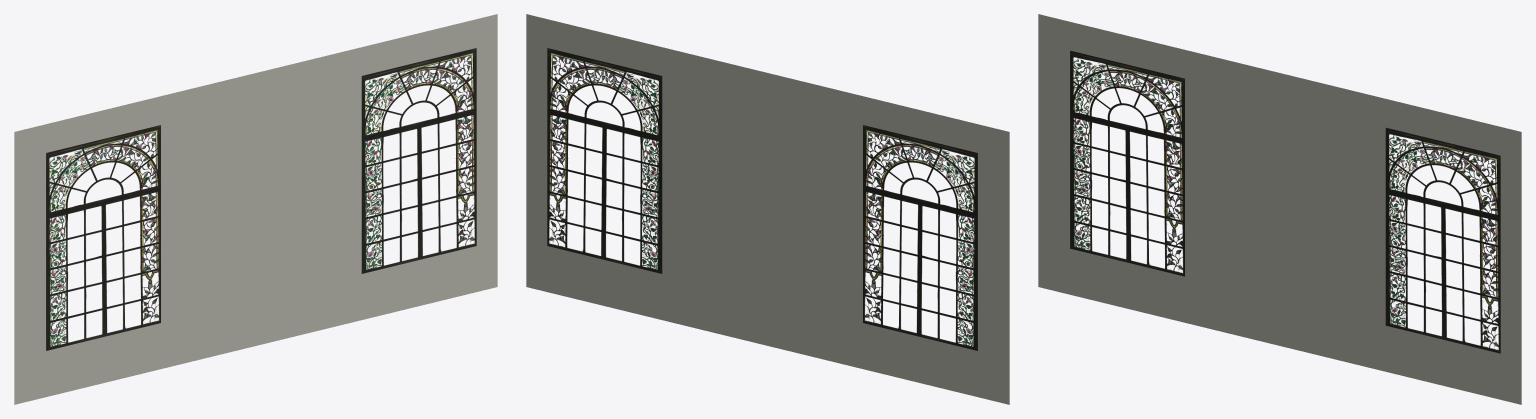
The model's file is B_axis_collider_5.glb.
3 views of the same model, side by side, from view 1: azimuth 30°, elevation 25°; view 2: azimuth 150°, elevation 25°; view 3: azimuth 330°, elevation 25° (orthographic).
Visible parts, largest first — view 1: B_axis_wall_collider.5; view 2: B_axis_wall_collider.5; view 3: B_axis_wall_collider.5.
Part boxes in pixels (x1,y1,x2,y2): B_axis_wall_collider.5: (14, 14, 497, 404); B_axis_wall_collider.5: (526, 14, 1009, 404); B_axis_wall_collider.5: (1038, 14, 1521, 404).
Bounding box in the file's own units: 9.2 × 4.96 × 0.
Materials: 1 (1 with a texture image).
